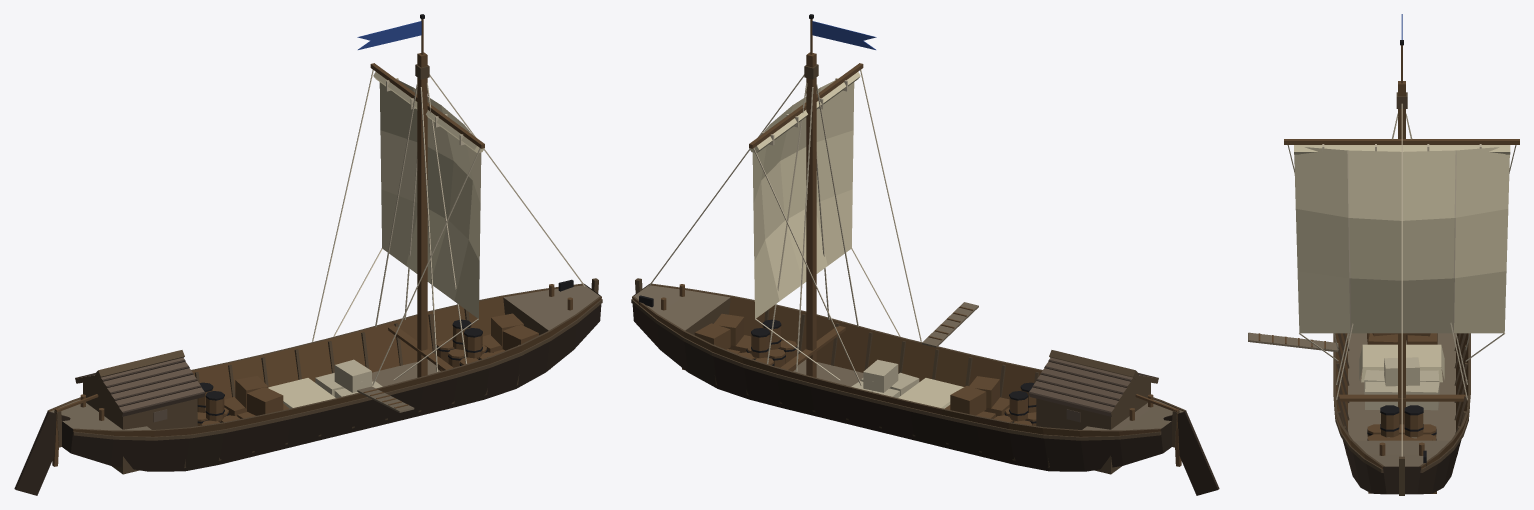
File: wasser_schiff.glb
3 renders of one model, left to right at view 1: azimuth 30°, elevation 25°; view 2: azimuth 150°, elevation 25°; view 3: azimuth 270°, elevation 25°, orthographic. The views are drawn at different scales.
Visible parts, largest first — view 1: Schiff, Segel_Gesetzt, Ladung_2, Ladung_5, Ladung_4, Ladung_6, Ladung_3, Ladung_1, Fahne, Segel_Gerefft; view 2: Schiff, Segel_Gesetzt, Ladung_2, Ladung_5, Ladung_4, Ladung_6, Ladung_3, Ladung_1, Fahne, Laufplanke, Segel_Gerefft; view 3: Segel_Gesetzt, Schiff, Ladung_4, Ladung_3, Ladung_5, Segel_Gerefft, Laufplanke, Ladung_2.
Part boxes in pixels (bbox=[...]): Schiff: bbox=[14, 52, 602, 495]; Segel_Gesetzt: bbox=[333, 80, 481, 380]; Ladung_2: bbox=[224, 376, 288, 418]; Ladung_5: bbox=[436, 319, 495, 371]; Ladung_4: bbox=[315, 359, 382, 397]; Ladung_6: bbox=[482, 313, 550, 369]; Ladung_3: bbox=[268, 378, 335, 408]; Ladung_1: bbox=[197, 382, 239, 425]; Fahne: bbox=[357, 14, 424, 54]; Segel_Gerefft: bbox=[373, 72, 484, 152]; Schiff: bbox=[631, 52, 1219, 495]; Segel_Gesetzt: bbox=[752, 80, 900, 380]; Ladung_2: bbox=[945, 376, 1009, 418]; Ladung_5: bbox=[738, 319, 797, 371]; Ladung_4: bbox=[851, 359, 919, 397]; Ladung_6: bbox=[682, 313, 751, 369]; Ladung_3: bbox=[898, 378, 963, 408]; Ladung_1: bbox=[994, 382, 1036, 425]; Fahne: bbox=[809, 14, 876, 54]; Laufplanke: bbox=[922, 302, 978, 347]; Segel_Gerefft: bbox=[749, 72, 860, 152]; Segel_Gesetzt: bbox=[1294, 147, 1509, 361]; Schiff: bbox=[1284, 81, 1519, 495]; Ladung_4: bbox=[1364, 357, 1439, 410]; Ladung_3: bbox=[1359, 344, 1444, 382]; Ladung_5: bbox=[1367, 405, 1436, 440]; Segel_Gerefft: bbox=[1294, 144, 1510, 154]; Laufplanke: bbox=[1248, 332, 1338, 352]; Ladung_2: bbox=[1367, 333, 1437, 344].
Size of the model in its own units: 21.88 by 13.86 by 8.3.
